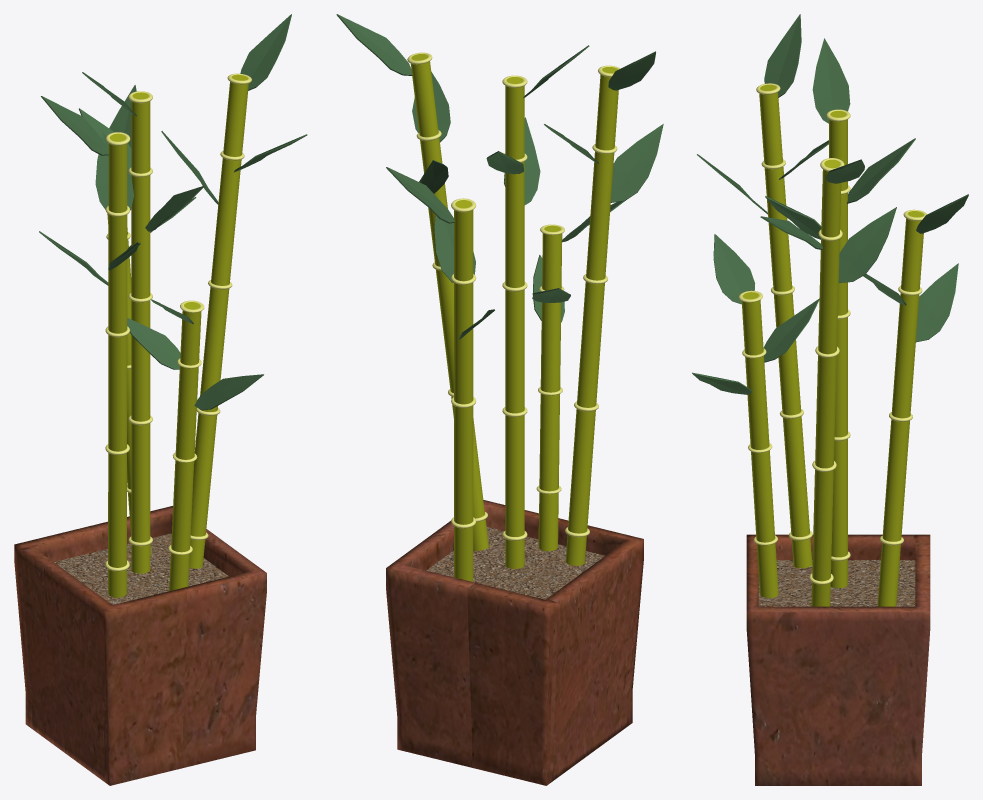
The model's file is Bamboo.fbx.
3 views of the same model, side by side, from view 1: azimuth 30°, elevation 25°; view 2: azimuth 150°, elevation 25°; view 3: azimuth 270°, elevation 25° (orthographic). The views are drawn at different scales.
Parts seen in each view (by area): view 1: polySurface31, polySurface35, polySurface53, polySurface62, polySurface71, Fake_Dirt, polySurface51, polySurface70, polySurface44, polySurface77, polySurface60, polySurface61 (+2 smaller); view 2: polySurface31, polySurface62, polySurface35, polySurface44, polySurface71, Fake_Dirt, polySurface53, polySurface68, polySurface51, polySurface43, polySurface42, polySurface41 (+4 smaller); view 3: polySurface31, polySurface62, polySurface53, polySurface44, polySurface71, polySurface35, Fake_Dirt, polySurface59, polySurface33, polySurface50, polySurface69, polySurface60 (+7 smaller).
Part boxes in pixels (box(x1,y1,x2,y2)): polySurface31: box(14, 506, 266, 785); polySurface35: box(131, 92, 150, 573); polySurface53: box(189, 74, 248, 568); polySurface62: box(108, 133, 127, 597); polySurface71: box(169, 302, 201, 591); Fake_Dirt: box(54, 533, 228, 604); polySurface51: box(240, 14, 291, 90); polySurface70: box(127, 318, 180, 369); polySurface44: box(107, 214, 151, 555); polySurface77: box(194, 374, 263, 410); polySurface60: box(41, 96, 109, 155); polySurface61: box(95, 132, 133, 210); polySurface31: box(386, 500, 643, 785); polySurface62: box(565, 67, 618, 565); polySurface35: box(505, 77, 524, 568); polySurface44: box(454, 200, 473, 581); polySurface71: box(538, 225, 562, 551); Fake_Dirt: box(426, 527, 605, 599); polySurface53: box(410, 54, 488, 550); polySurface68: box(610, 124, 663, 202); polySurface51: box(336, 14, 412, 75); polySurface43: box(434, 215, 475, 282); polySurface42: box(386, 167, 454, 223); polySurface41: box(504, 117, 540, 204); polySurface31: box(746, 534, 930, 785); polySurface62: box(759, 84, 812, 568); polySurface53: box(811, 159, 841, 606); polySurface44: box(877, 211, 923, 606); polySurface71: box(741, 292, 778, 598); polySurface35: box(829, 111, 847, 588); Fake_Dirt: box(758, 560, 915, 606); polySurface59: box(838, 207, 896, 282); polySurface33: box(812, 38, 850, 123); polySurface50: box(916, 263, 958, 342); polySurface69: box(713, 234, 755, 304); polySurface60: box(764, 14, 801, 97).
Size of the model in its own units: 5.8 by 13.49 by 4.97.
